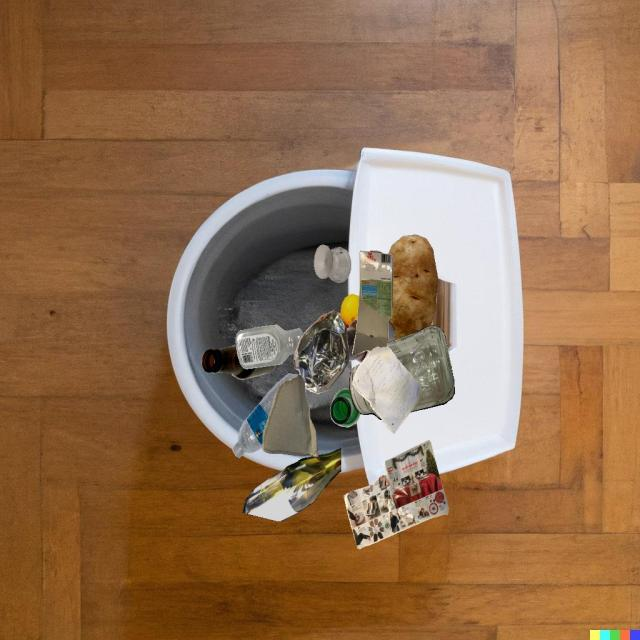biowaste: (388, 234, 438, 341), (340, 294, 359, 330)
cardboard: (262, 375, 318, 457), (352, 250, 394, 356)
glass: (243, 448, 341, 521), (387, 326, 454, 380), (359, 352, 421, 405), (201, 343, 276, 380), (314, 244, 351, 283), (330, 389, 360, 427), (346, 319, 367, 362), (387, 321, 395, 343)
metal: (294, 310, 349, 394)
paper: (344, 440, 449, 549), (353, 345, 421, 434)
plastic: (233, 373, 300, 458), (236, 325, 304, 369), (306, 388, 308, 390)
